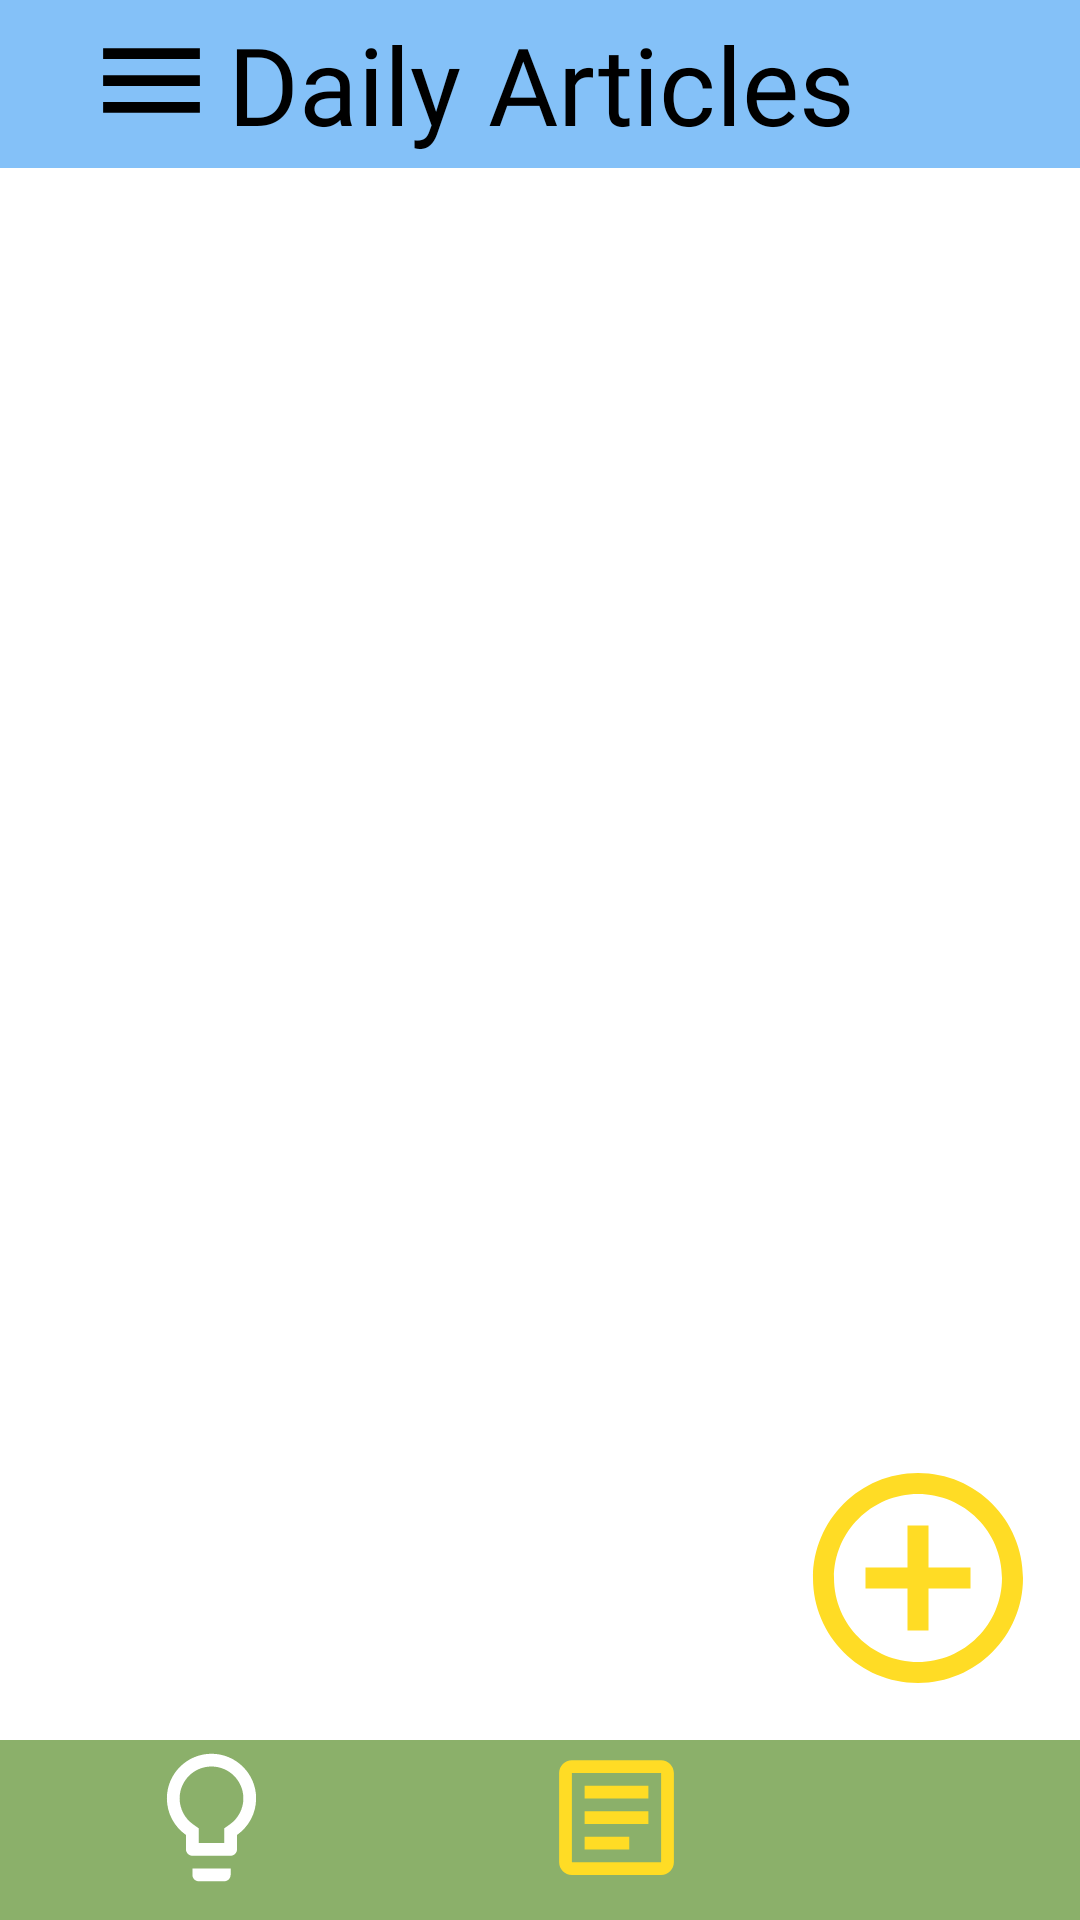

Named icons in this screenshot (1080w x 1920h) and their centers, (x=x, y=y):
add: (x=918, y=1578)
Fact: (x=211, y=1817)
Main articles: (x=616, y=1817)
Menu: (x=151, y=80)
